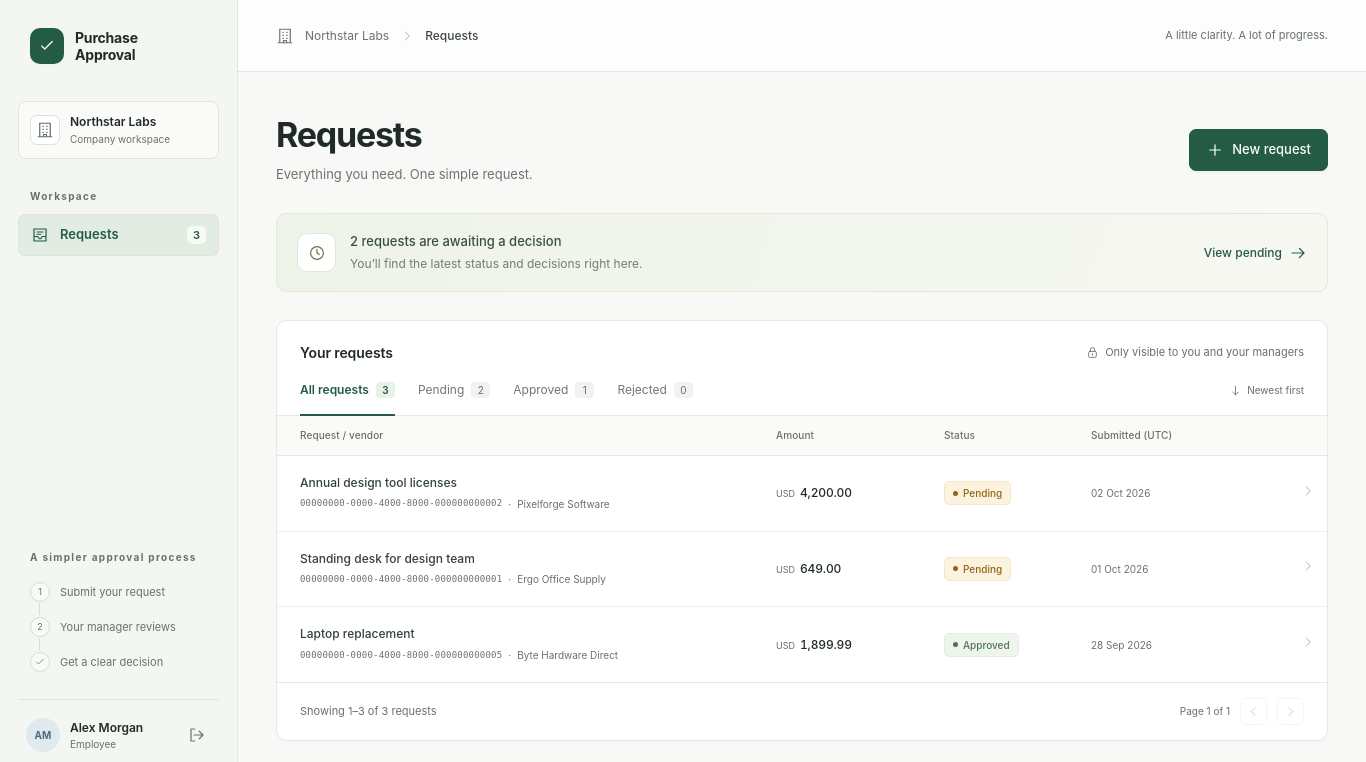
it: shell (supplied design) › signs out through the icon button in the profile
This screenshot has width=1366, height=762.
Click the button named "Sign out". click: [197, 735]
box: [183,718,211,752]
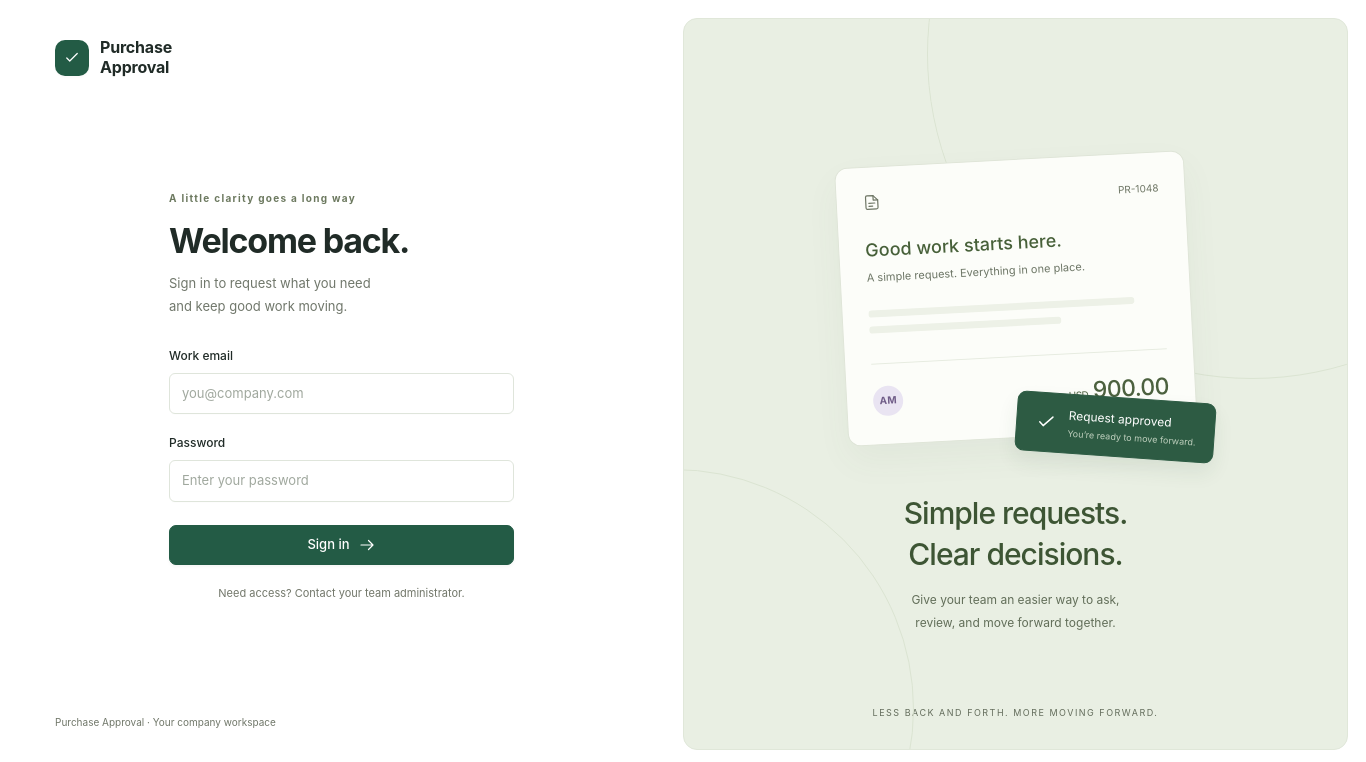
Expected: the heading "Welcome back." is shown, [169,220,409,261]
